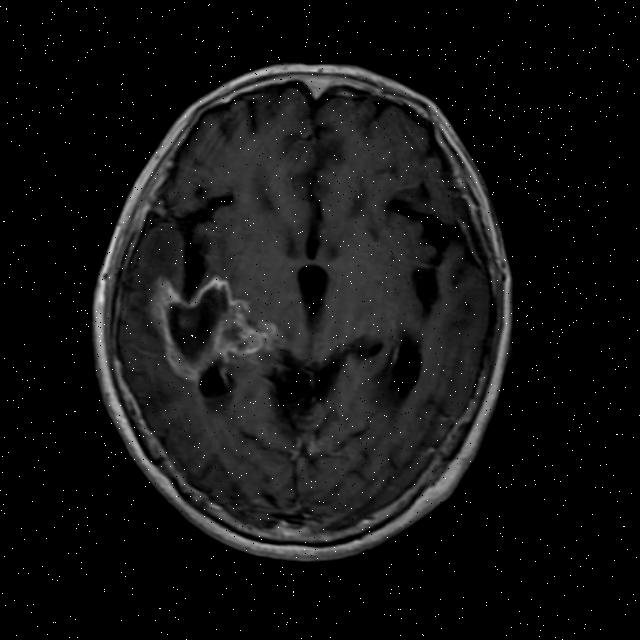Glioma: (132, 259, 238, 390), (215, 294, 287, 372)
